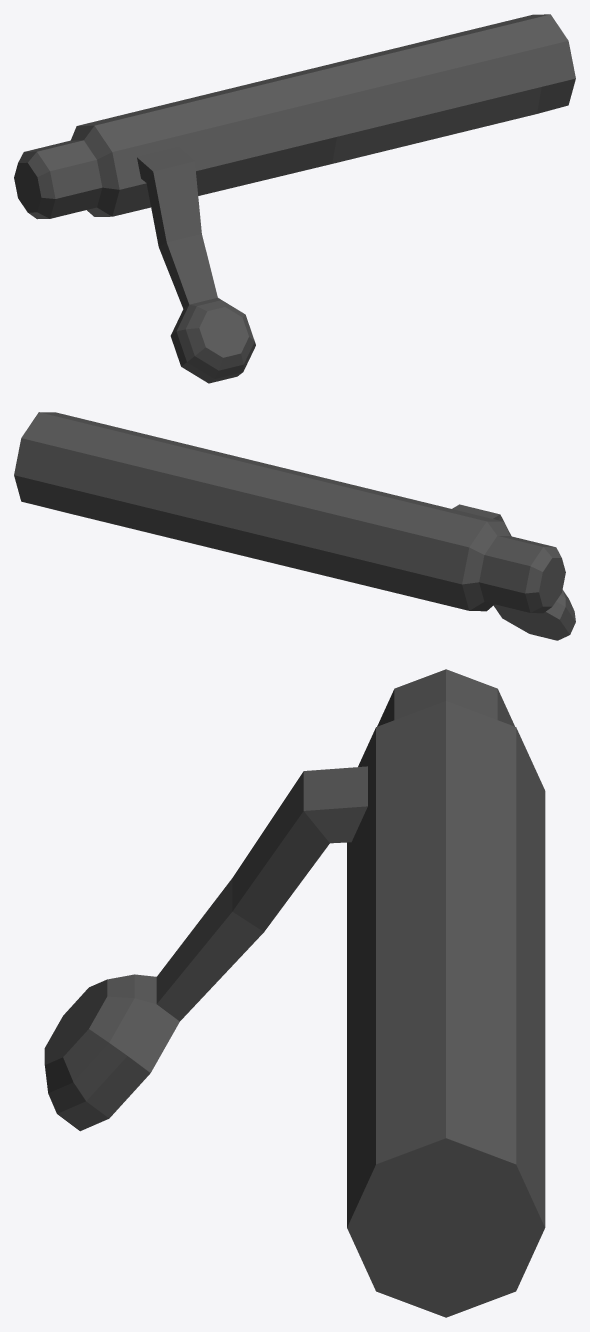
File: SniperRifle3_05_2.fbx
The picture shows the model from 3 angles, top to bottom: view 1: azimuth 30°, elevation 25°; view 2: azimuth 150°, elevation 25°; view 3: azimuth 270°, elevation 25°; orthographic projection. The views are drawn at different scales.
Visible parts, largest first — view 1: SniperRifle3_05_2; view 2: SniperRifle3_05_2; view 3: SniperRifle3_05_2.
Part boxes in pixels (box(x1,y1,x2,y2)): SniperRifle3_05_2: box(14, 14, 575, 383); SniperRifle3_05_2: box(14, 412, 575, 640); SniperRifle3_05_2: box(44, 669, 545, 1317).
Bounding box in the file's own units: 0.1559 × 0.0555 × 0.0658.
